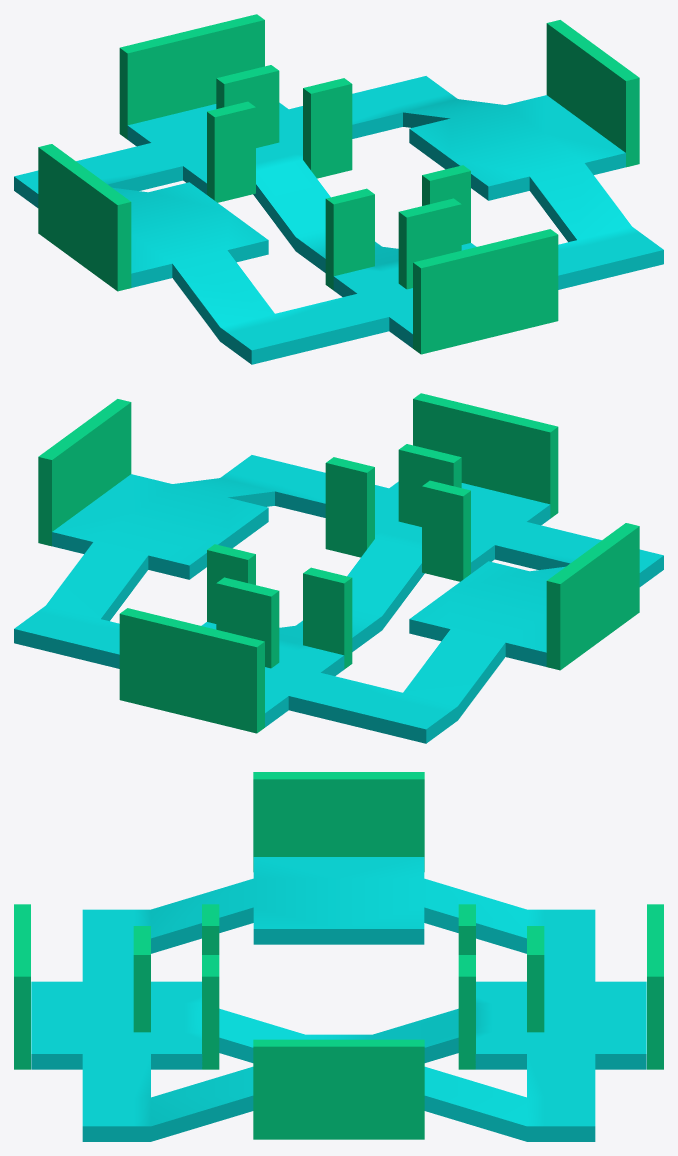
The model's file is Level.fbx.
3 renders of one model, top to bottom at view 1: azimuth 30°, elevation 25°; view 2: azimuth 150°, elevation 25°; view 3: azimuth 270°, elevation 25°, orthographic. The views are drawn at different scales.
Parts seen in each view (by area): view 1: Floor, pCube7, pCube8, pCube10, pCube9, pCube3, pCube4, pCube2, pCube5, pCube6, pCube1; view 2: Floor, pCube8, pCube7, pCube10, pCube9, pCube2, pCube1, pCube3, pCube6, pCube5, pCube4; view 3: Floor, pCube9, pCube10, pCube7, pCube8, pCube1, pCube4, pCube5, pCube6, pCube2, pCube3.
Part boxes in pixels (x1=…): Floor: x1=14, y1=76, x2=663, y2=364; pCube7: x1=413, y1=229, x2=558, y2=354; pCube8: x1=119, y1=14, x2=264, y2=139; pCube10: x1=38, y1=144, x2=131, y2=291; pCube9: x1=546, y1=20, x2=639, y2=167; pCube3: x1=207, y1=101, x2=255, y2=202; pCube4: x1=303, y1=78, x2=352, y2=178; pCube2: x1=325, y1=188, x2=374, y2=290; pCube5: x1=398, y1=198, x2=461, y2=289; pCube6: x1=216, y1=65, x2=279, y2=147; pCube1: x1=422, y1=165, x2=470, y2=244; Floor: x1=14, y1=455, x2=663, y2=743; pCube8: x1=119, y1=608, x2=264, y2=733; pCube7: x1=413, y1=393, x2=558, y2=518; pCube10: x1=546, y1=523, x2=639, y2=670; pCube9: x1=38, y1=399, x2=131, y2=546; pCube2: x1=422, y1=480, x2=470, y2=581; pCube1: x1=325, y1=457, x2=374, y2=557; pCube3: x1=303, y1=567, x2=352, y2=669; pCube6: x1=216, y1=577, x2=279, y2=668; pCube5: x1=398, y1=444, x2=461, y2=526; pCube4: x1=207, y1=544, x2=255, y2=623; Floor: x1=31, y1=857, x2=646, y2=1141; pCube9: x1=253, y1=1039, x2=424, y2=1139; pCube10: x1=253, y1=772, x2=424, y2=871; pCube7: x1=14, y1=904, x2=30, y2=1069; pCube8: x1=647, y1=904, x2=663, y2=1069; pCube1: x1=202, y1=955, x2=219, y2=1069; pCube4: x1=458, y1=955, x2=475, y2=1069; pCube5: x1=133, y1=926, x2=150, y2=1032; pCube6: x1=527, y1=926, x2=544, y2=1032; pCube2: x1=202, y1=904, x2=219, y2=954; pCube3: x1=458, y1=904, x2=475, y2=954.
Size of the model in its own units: 38 by 10 by 38.
